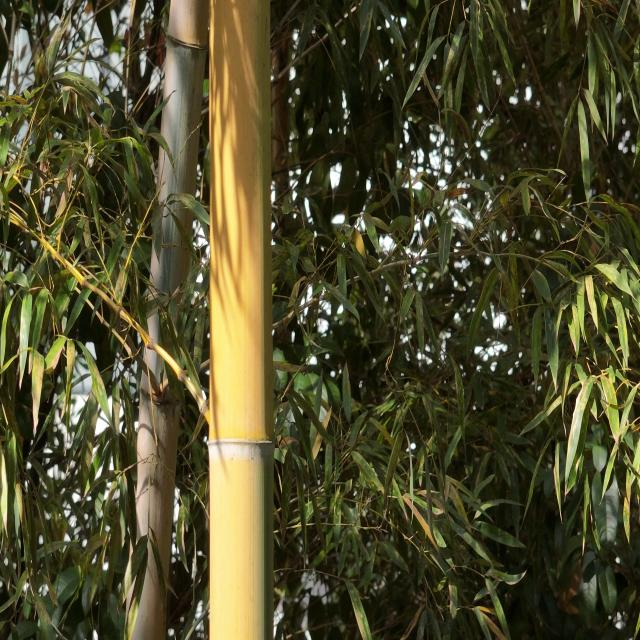Bamboo-shoots: (211, 0, 274, 640)
